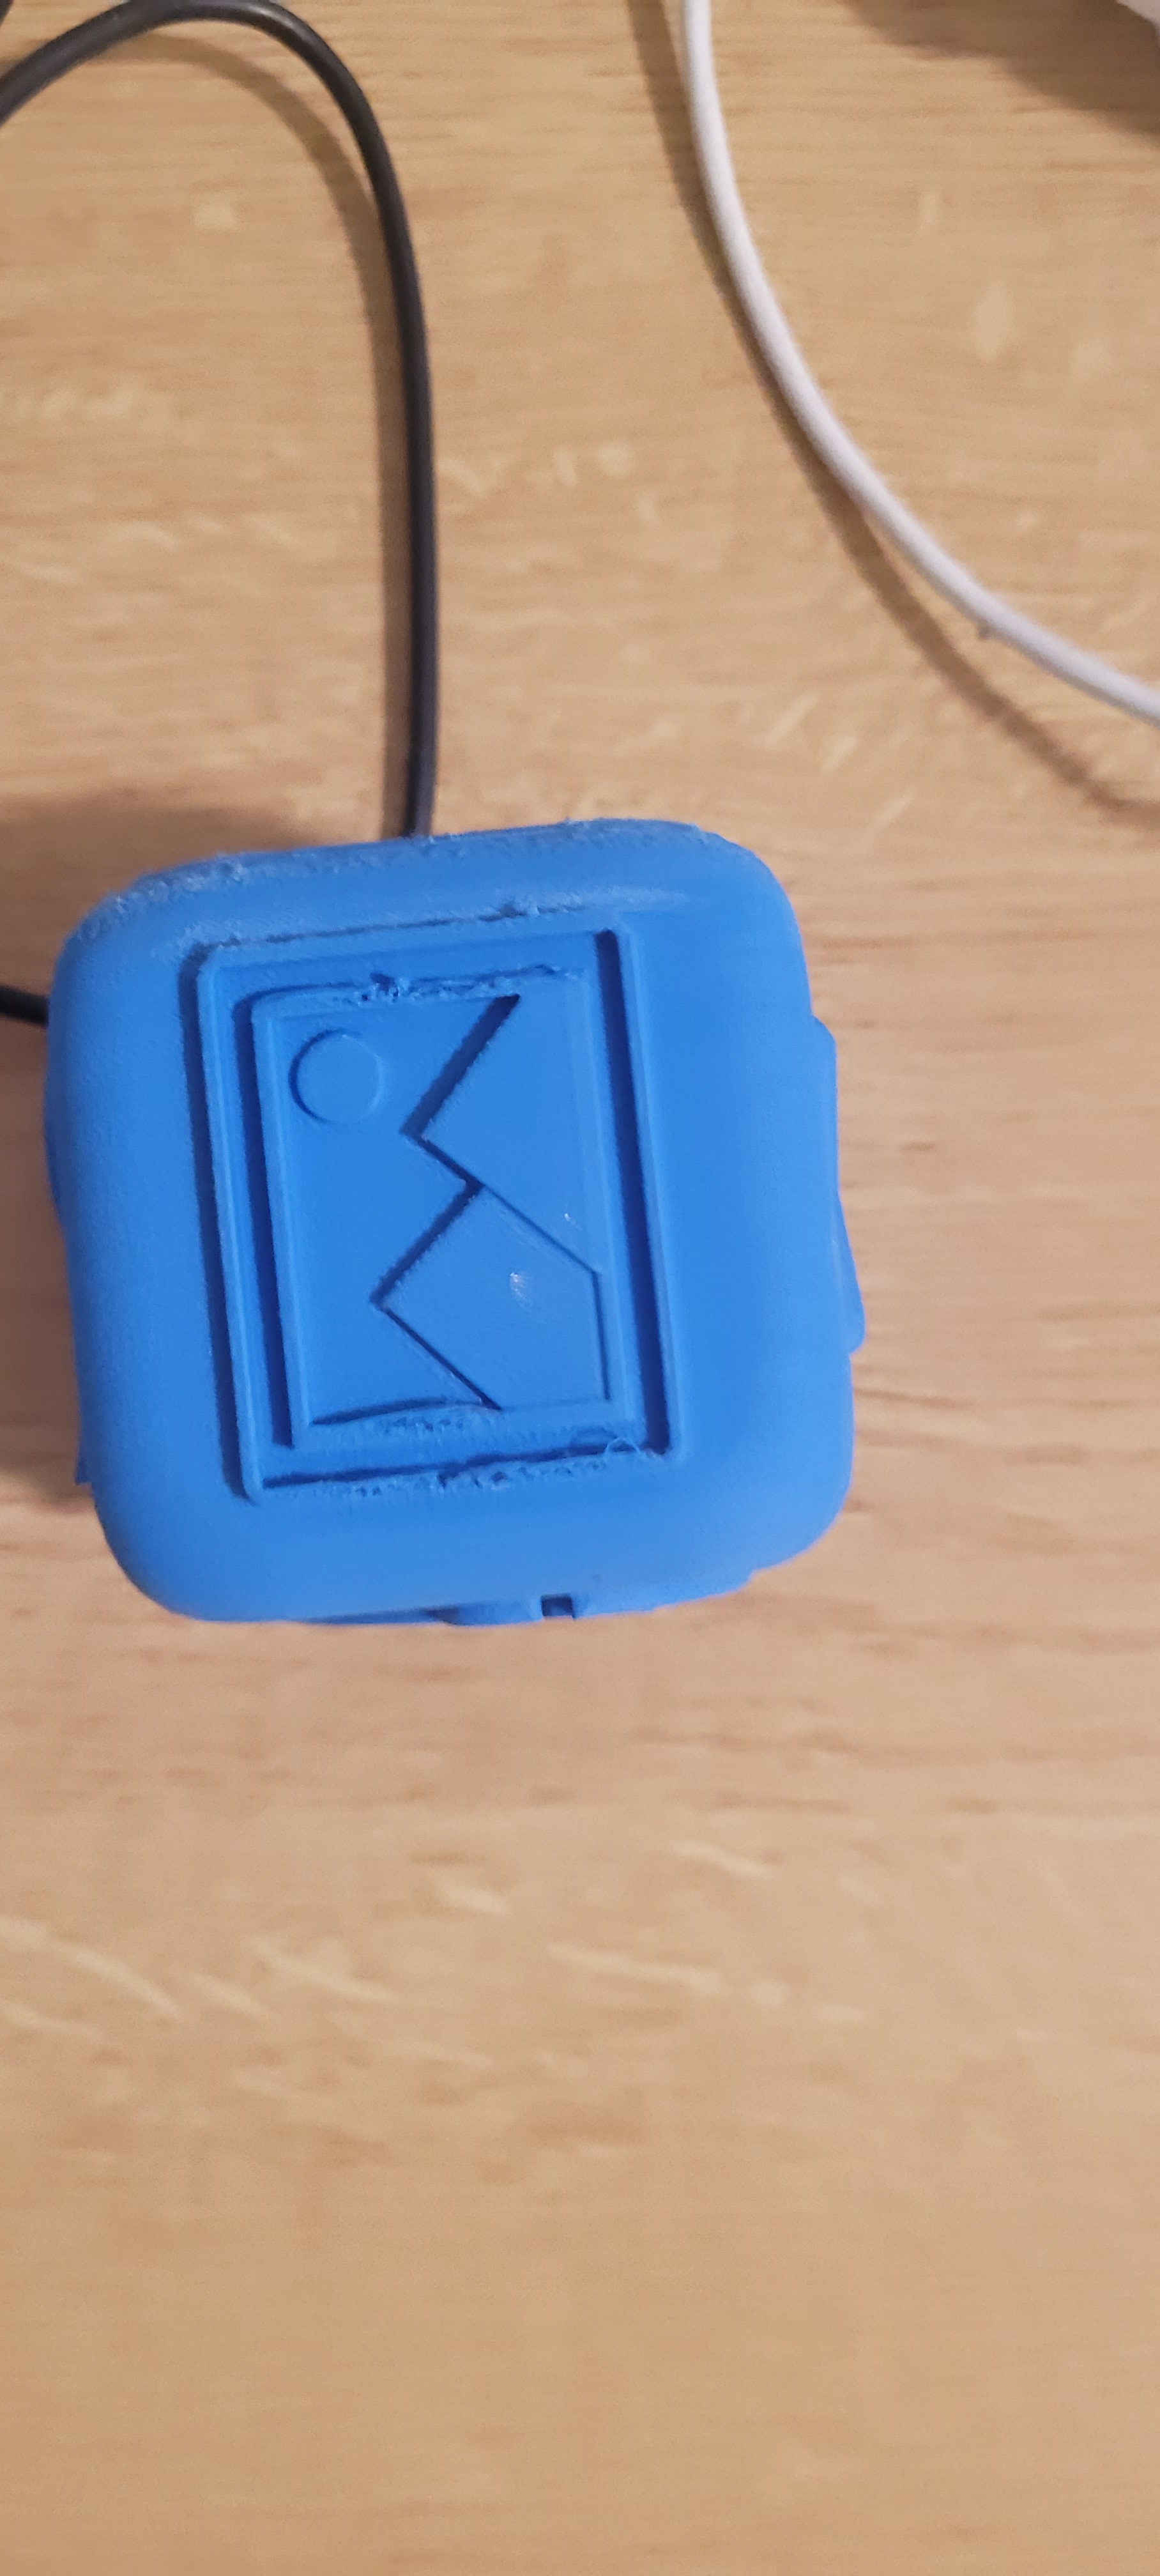Story: (204, 854, 698, 1543)
